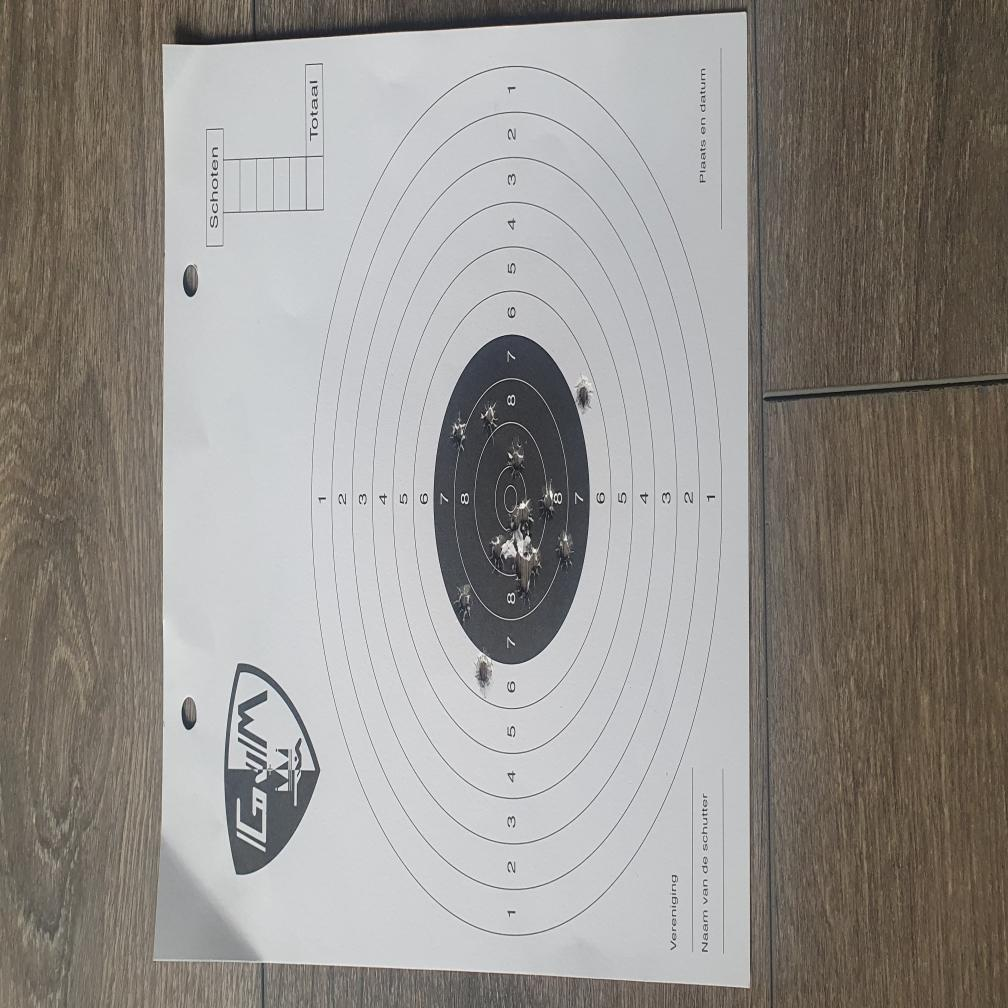10: (506, 439, 525, 477), (517, 497, 532, 526), (509, 513, 520, 539)
6: (473, 647, 494, 700), (573, 372, 594, 421)
7: (455, 580, 474, 626)
8: (555, 532, 576, 577), (449, 408, 467, 454), (480, 399, 498, 436), (515, 575, 534, 604)
9: (490, 535, 507, 573), (542, 483, 556, 525), (509, 541, 527, 572), (530, 546, 542, 577)
Target: (319, 80, 732, 954)
black_contour: (433, 337, 590, 670)
